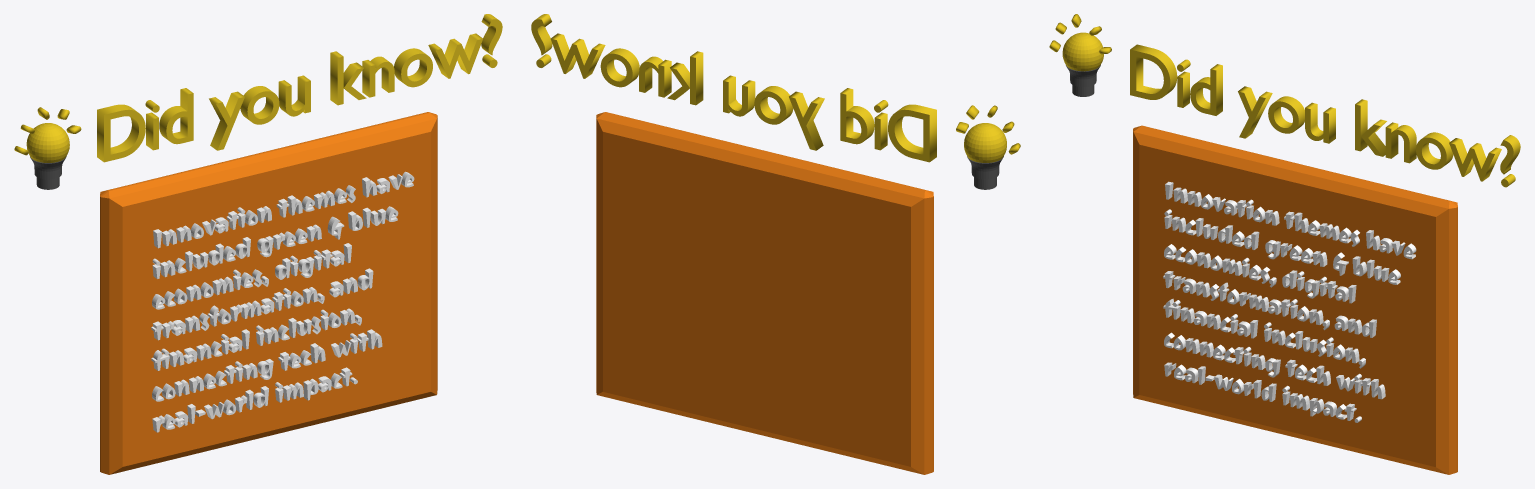
The model's file is did you know fact02.glb.
The picture shows the model from 3 angles, left to right: view 1: azimuth 30°, elevation 25°; view 2: azimuth 150°, elevation 25°; view 3: azimuth 330°, elevation 25°; orthographic projection. The views are drawn at different scales.
Parts seen in each view (by area): view 1: QnSlab, Curve.003, Text, bulb; view 2: QnSlab, Text, bulb; view 3: QnSlab, Curve.003, Text, bulb.
Part boxes in pixels (x1,y1,x2,y2): QnSlab: (100, 112, 437, 474); Curve.003: (151, 171, 414, 432); Text: (97, 14, 502, 162); bulb: (26, 123, 69, 189); QnSlab: (596, 112, 933, 474); Text: (531, 14, 936, 162); bulb: (964, 123, 1006, 189); QnSlab: (1133, 125, 1457, 474); Curve.003: (1163, 181, 1416, 422); Text: (1130, 44, 1520, 187); bulb: (1062, 32, 1103, 96).
Bounding box in the file's own units: 0.6399 × 0.484 × 0.0521.
